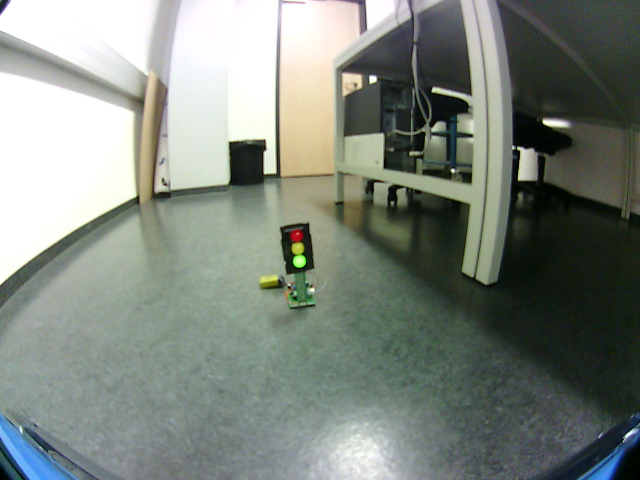green trafficlight: (285, 229, 312, 272)
